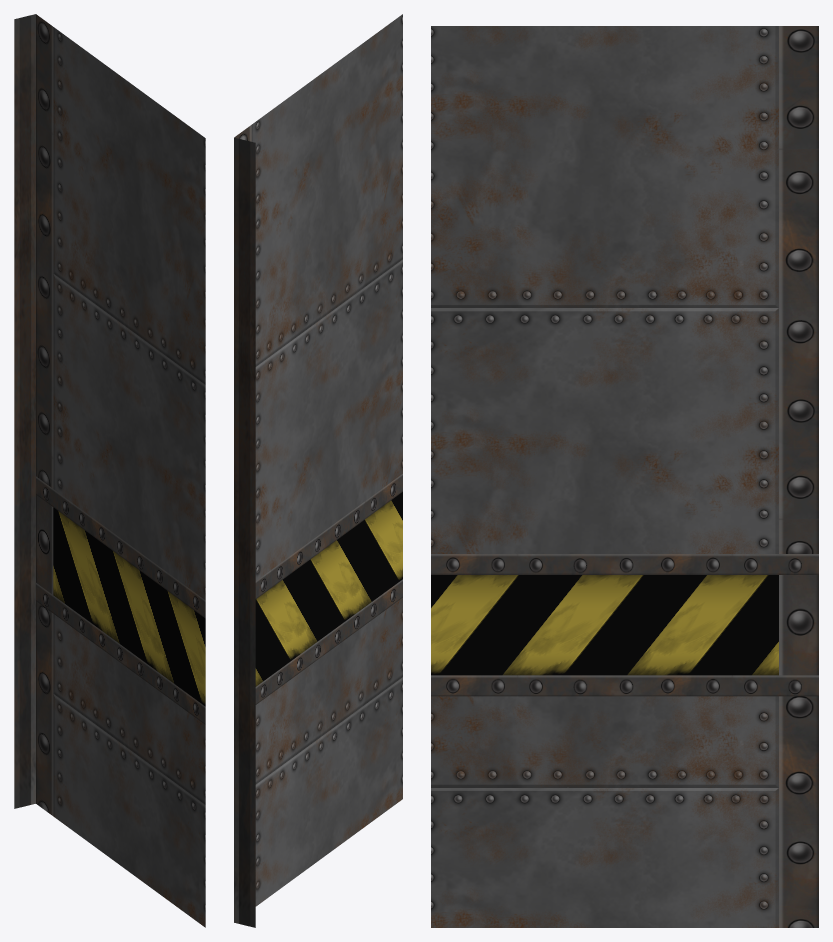
The model's file is big_door.fbx.
3 renders of one model, left to right at view 1: azimuth 30°, elevation 25°; view 2: azimuth 150°, elevation 25°; view 3: azimuth 270°, elevation 25°, orthographic. The views are drawn at different scales.
Visible parts, largest first — view 1: BigDoor; view 2: BigDoor; view 3: BigDoor.
Boxes of the visible parts, bbox=[...] form: BigDoor: bbox=[14, 14, 205, 927]; BigDoor: bbox=[234, 14, 402, 927]; BigDoor: bbox=[431, 26, 818, 927].
Size of the model in its own units: 66.52 by 2314 by 902.
